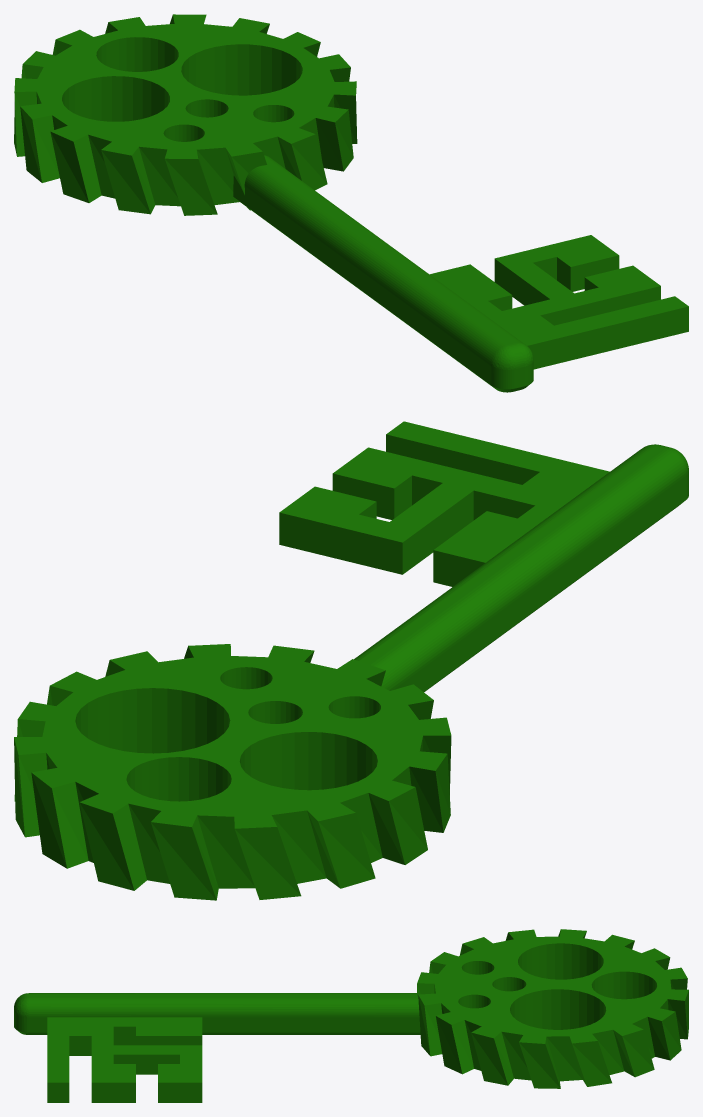
The model's file is Steampunk_Key3.stl.glb.
3 renders of one model, top to bottom at view 1: azimuth 30°, elevation 25°; view 2: azimuth 150°, elevation 25°; view 3: azimuth 270°, elevation 25°, orthographic. The views are drawn at different scales.
Visible parts, largest first — view 1: Steampunk_Key3; view 2: Steampunk_Key3; view 3: Steampunk_Key3.
Boxes of the visible parts, <box> form: Steampunk_Key3: <box>14,14,688,392</box>; Steampunk_Key3: <box>14,421,688,900</box>; Steampunk_Key3: <box>14,929,688,1102</box>.
Size of the model in its own units: 43.12 by 7 by 95.44.
